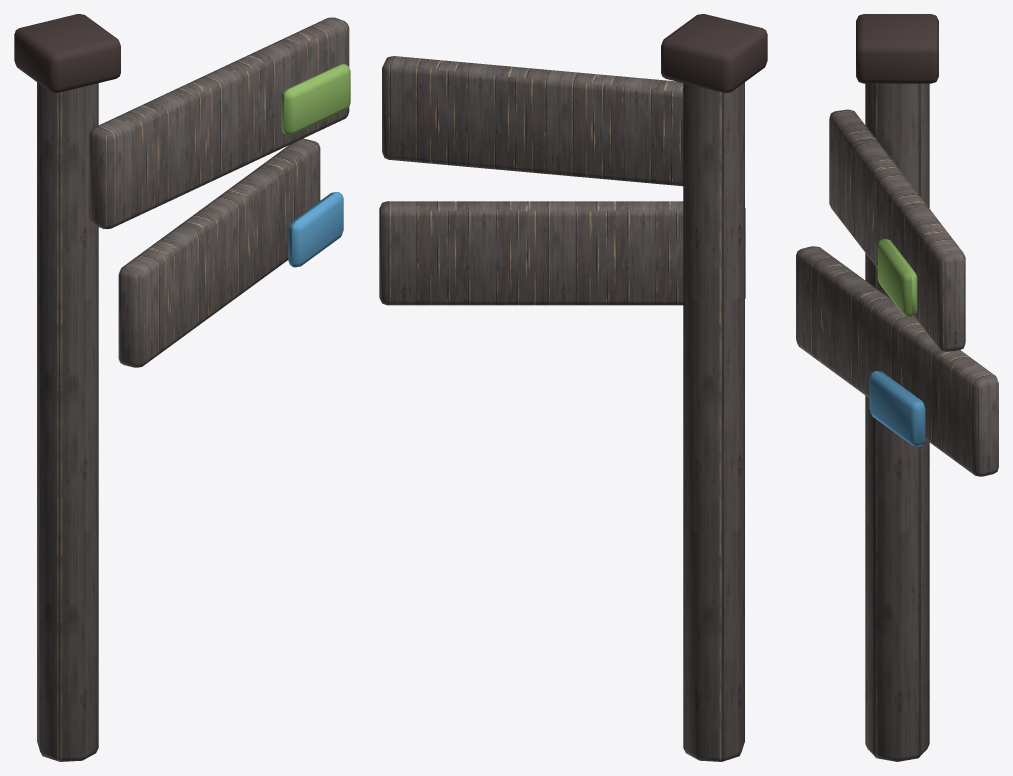
Rendered from signpost.gltf.
3 renders of one model, left to right at view 1: azimuth 30°, elevation 25°; view 2: azimuth 150°, elevation 25°; view 3: azimuth 270°, elevation 25°, orthographic.
Visible parts, largest first — view 1: signpost; view 2: signpost; view 3: signpost.
Boxes of the visible parts, <box> form: signpost: <box>14,14,350,761</box>; signpost: <box>379,14,767,761</box>; signpost: <box>796,14,998,761</box>.
Bounding box in the file's own units: 1.23 × 2.49 × 0.6329.
2 materials, 2 textured.
